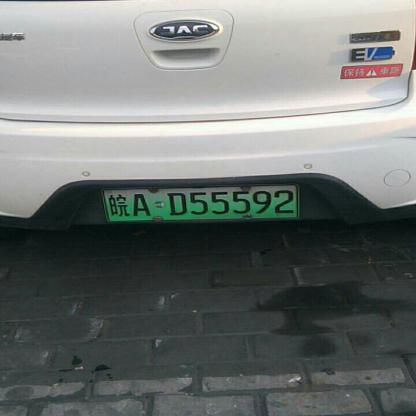lp: (101, 186, 299, 221)
